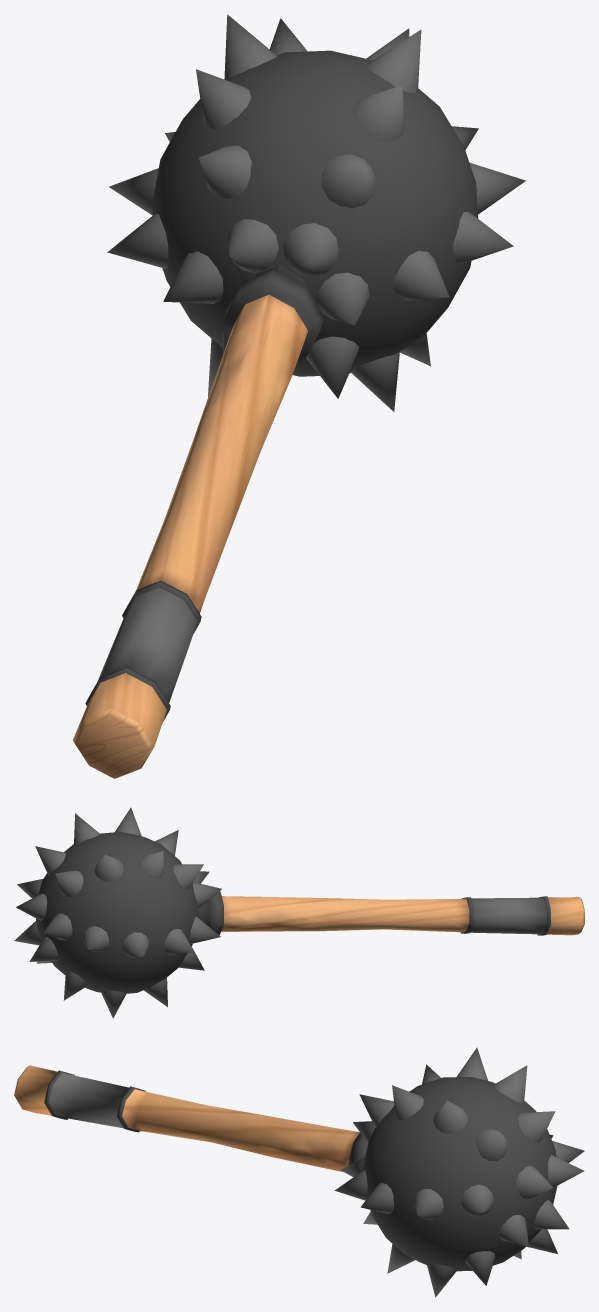
File: Mace_1.fbx
3 views of the same model, one above another, from view 1: azimuth 30°, elevation 25°; view 2: azimuth 150°, elevation 25°; view 3: azimuth 270°, elevation 25° (orthographic). The views are drawn at different scales.
Parts seen in each view (by area): view 1: Mace_1; view 2: Mace_1; view 3: Mace_1.
Part boxes in pixels (bbox=[...]): Mace_1: bbox=[72, 14, 525, 778]; Mace_1: bbox=[14, 807, 584, 1018]; Mace_1: bbox=[14, 1047, 584, 1297].
Size of the model in its own units: 41.62 by 17.47 by 44.65.
3 materials, 1 textured.
